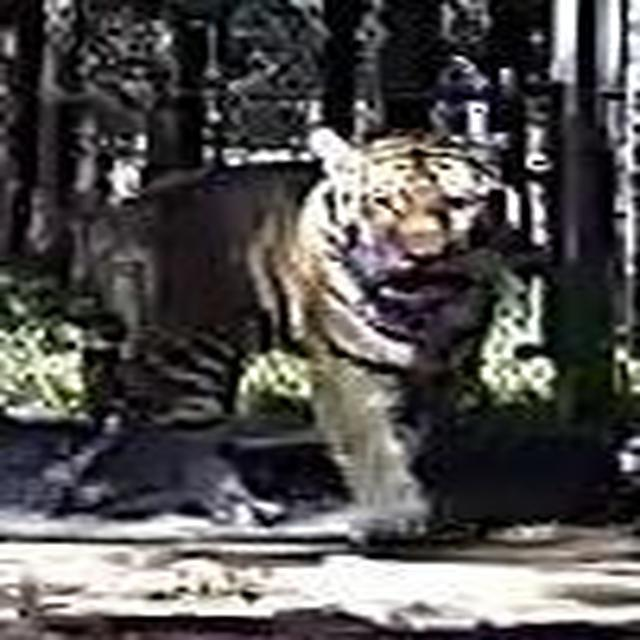tiger: (57, 103, 523, 552)
